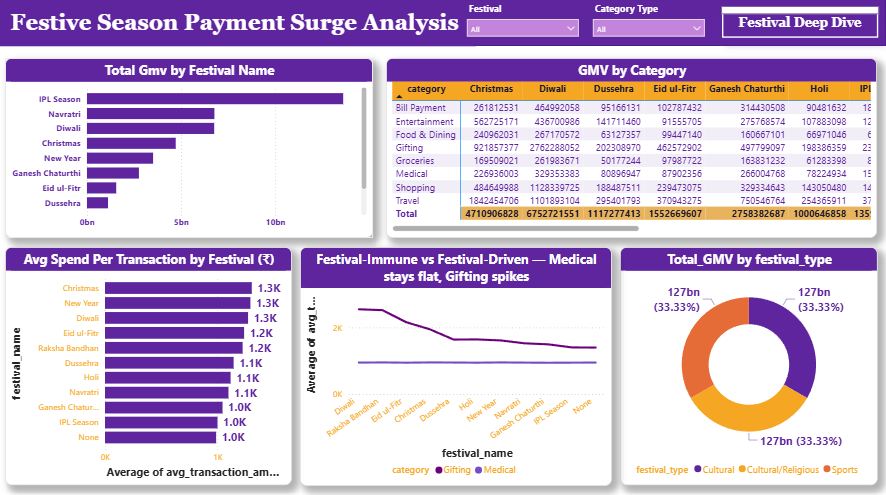

The page's visual inventory and layout, read from the dashboard file:
{"tool":"powerbi","page":{"name":"Festival Deep Dive","canvas":[1280,720],"ordinal":1},"visuals":[{"type":"group","id":"g1","title":"Group 1","box":[1.6,0,1278.7,70.6],"z":0},{"type":"shape","box":[1.6,0,1278.7,70.6],"z":0,"group":"g1"},{"type":"textbox","box":[2.9,13,686.9,57.6],"z":1000,"group":"g1"},{"type":"shape","box":[1042.1,13.2,227.6,11.8],"z":1000},{"type":"textbox","box":[1043.9,18.5,224.7,40.3],"z":2000,"group":"g1"},{"type":"barChart","title":"Total Gmv by Festival Name","fields":{"Category":["phonepe payments.festival_name"],"Y":["Sum(phonepe payments.total_gmv_inr)"]},"box":[11.5,87.8,529.9,259.2],"z":2000},{"type":"pivotTable","title":"GMV by Category","fields":{"Rows":["phonepe payments.category"],"Columns":["phonepe payments.festival_name"],"Values":["Sum(phonepe payments.total_gmv_inr)"]},"box":[560.2,87.8,707,259.2],"z":3000},{"type":"donutChart","fields":{"Category":["phonepe festivals.festival_type"],"Y":["phonepe payments.Total_GMV"]},"box":[897,359.5,371.2,342.7],"z":4000},{"type":"clusteredBarChart","title":"Avg Spend Per Transaction by Festival (₹)","fields":{"Category":["phonepe payments.festival_name"],"Y":["Avg(phonepe payments.avg_transaction_amount_inr)"]},"box":[11.8,359.5,413.2,342.7],"z":5000},{"type":"lineChart","title":"Festival-Immune vs Festival-Driven — Medical stays flat, Gifting spikes","fields":{"Category":["phonepe payments.festival_name"],"Y":["Avg(phonepe payments.avg_transaction_amount_inr)"],"Series":["phonepe payments.category"]},"box":[436.7,359.5,448.5,344.4],"z":6000},{"type":"slicer","fields":{"Values":["phonepe payments.category"]},"box":[848.2,2.9,181.4,66.2],"z":7000},{"type":"slicer","fields":{"Values":["phonepe payments.festival_name"]},"box":[666.7,2.9,181.4,66.2],"z":8000}]}

Visuals, with their boxes in screenshot pixels (x1, y1, x2, y2), scaled from the page's 1280x720 canvas onto the 886x495 screenshot:
"Group 1" group: locate(1, 0, 885, 49)
shape: locate(1, 0, 885, 49)
textbox: locate(2, 9, 477, 49)
shape: locate(721, 9, 879, 17)
textbox: locate(723, 13, 878, 40)
"Total Gmv by Festival Name" barChart: locate(8, 60, 375, 239)
"GMV by Category" pivotTable: locate(388, 60, 877, 239)
donutChart - phonepe festivals.festival_type x phonepe payments.Total_GMV: locate(621, 247, 878, 483)
"Avg Spend Per Transaction by Festival (₹)" clusteredBarChart: locate(8, 247, 294, 483)
"Festival-Immune vs Festival-Driven — Medical stays flat, Gifting spikes" lineChart: locate(302, 247, 613, 484)
slicer - phonepe payments.category: locate(587, 2, 713, 48)
slicer - phonepe payments.festival_name: locate(461, 2, 587, 48)
